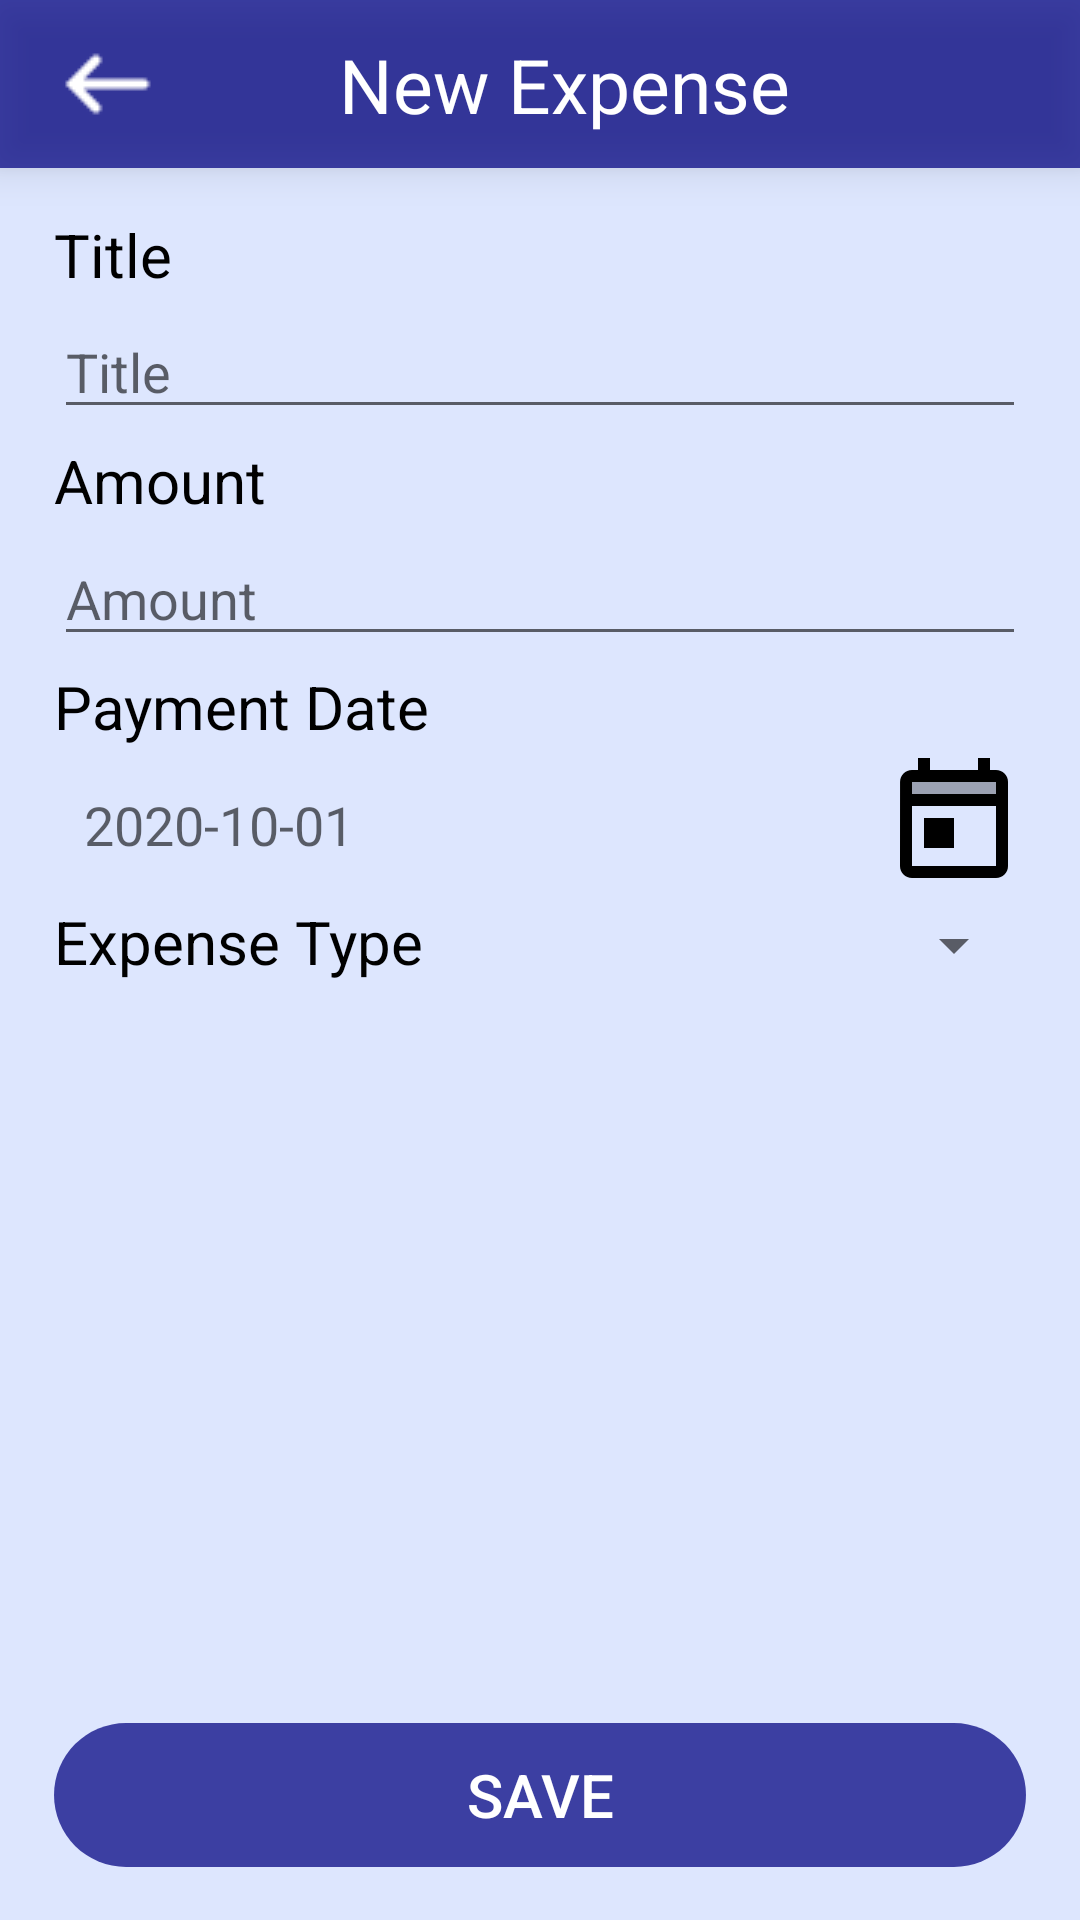

Icon bounding boxes for this 1080 × 1920 phone screenshot, format (x1, y1, x2, y2):
back arrow: (65, 53, 151, 115)
today: (900, 758, 1008, 878)
